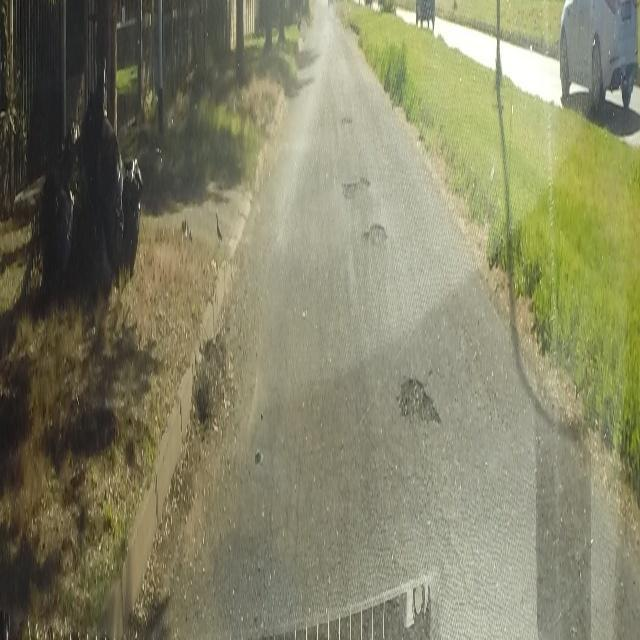pothole: (398, 368, 442, 437), (359, 211, 389, 251), (340, 165, 371, 201)
